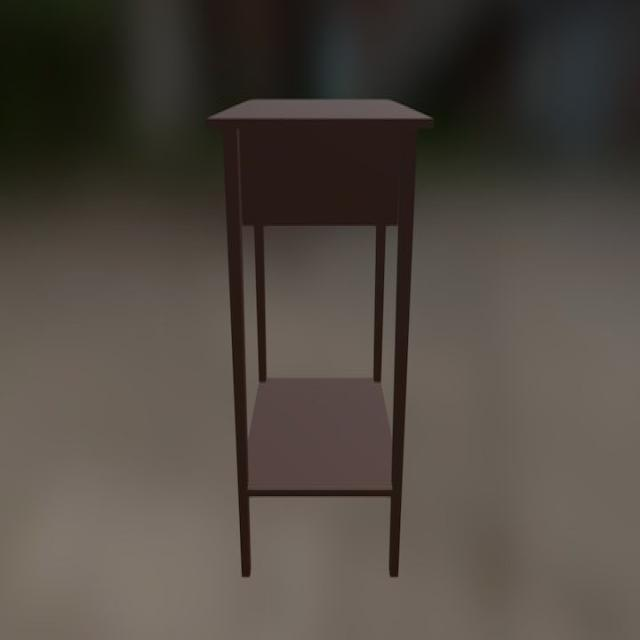table: (212, 97, 432, 580)
